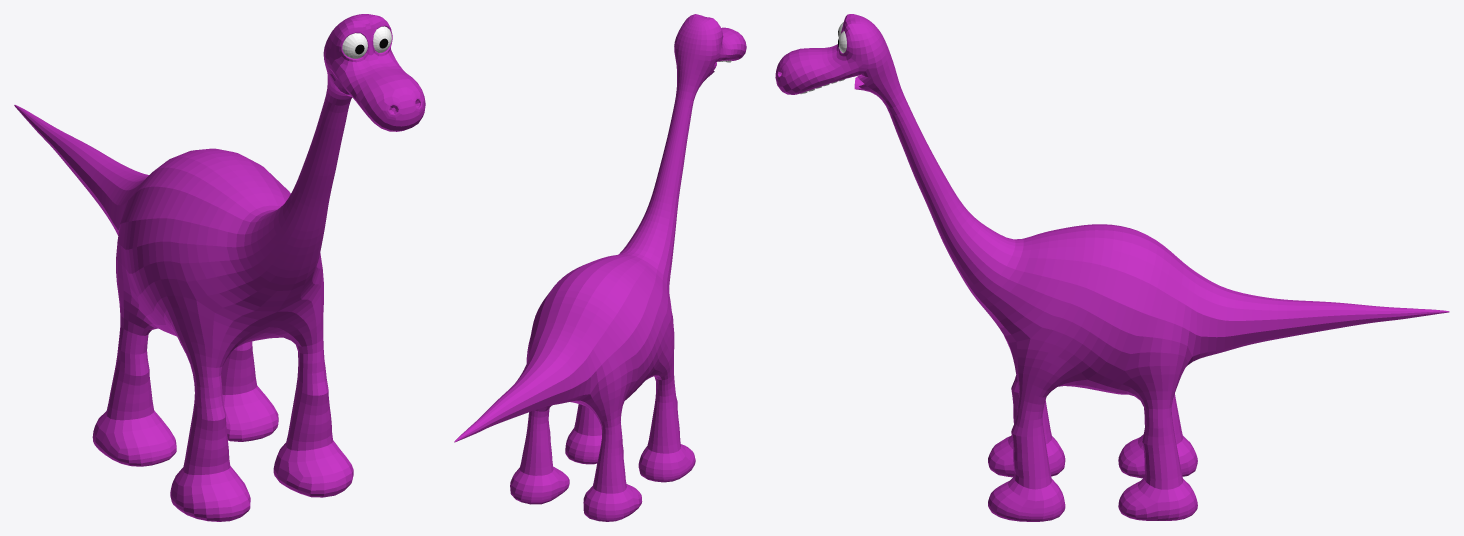
File: dinosaurio.obj
The picture shows the model from 3 angles, left to right: view 1: azimuth 30°, elevation 25°; view 2: azimuth 150°, elevation 25°; view 3: azimuth 270°, elevation 25°; orthographic projection. The views are drawn at different scales.
Parts seen in each view (by area): view 1: dinosaurio; view 2: dinosaurio; view 3: dinosaurio.
Part boxes in pixels (<box>): dinosaurio: <box>14,14,425,521</box>; dinosaurio: <box>454,14,746,521</box>; dinosaurio: <box>775,14,1449,521</box>.
Size of the model in its own units: 9.44 by 29.82 by 38.64.
